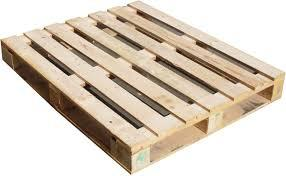wood: (2, 3, 282, 173)
